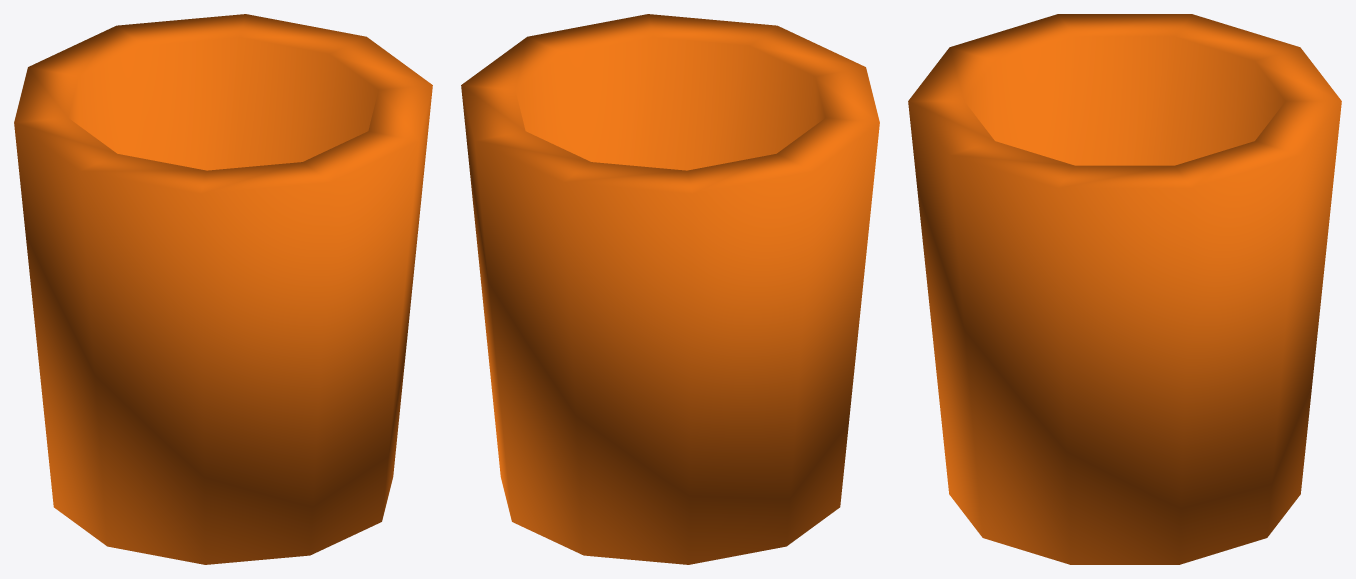
File: Garbage.fbx
3 views of the same model, side by side, from view 1: azimuth 30°, elevation 25°; view 2: azimuth 150°, elevation 25°; view 3: azimuth 270°, elevation 25° (orthographic).
Visible parts, largest first — view 1: garbege; view 2: garbege; view 3: garbege.
Part boxes in pixels (x1,y1,x2,y2): garbege: (14,14,432,564); garbege: (461,14,879,564); garbege: (908,14,1341,564).
Size of the model in its own units: 43.18 by 45.4 by 45.4.
